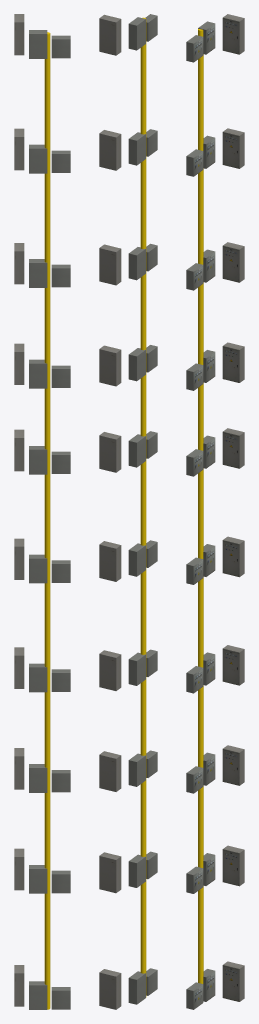
The model's file is PDG-F1-F10-B.obj.
3 views of the same model, side by side, from view 1: azimuth 90°, elevation 25°; view 2: azimuth 150°, elevation 25°; view 3: azimuth 330°, elevation 25° (orthographic).
Parts seen in each view (by area): view 1: PDG_F1_F10_gui_B, PDG_F1_F10_B; view 2: PDG_F1_F10_gui_B, PDG_F1_F10_B; view 3: PDG_F1_F10_gui_B, PDG_F1_F10_B.
Boxes of the visible parts, x1=… form: PDG_F1_F10_gui_B: x1=14, y1=14, x2=70, y2=1009; PDG_F1_F10_B: x1=44, y1=32, x2=50, y2=1009; PDG_F1_F10_gui_B: x1=99, y1=14, x2=157, y2=1009; PDG_F1_F10_B: x1=140, y1=17, x2=146, y2=997; PDG_F1_F10_gui_B: x1=186, y1=14, x2=244, y2=1009; PDG_F1_F10_B: x1=198, y1=28, x2=203, y2=983.
Bounding box in the file's own units: 1220 × 38020 × 1970.
Materials: 3 (2 with a texture image).
